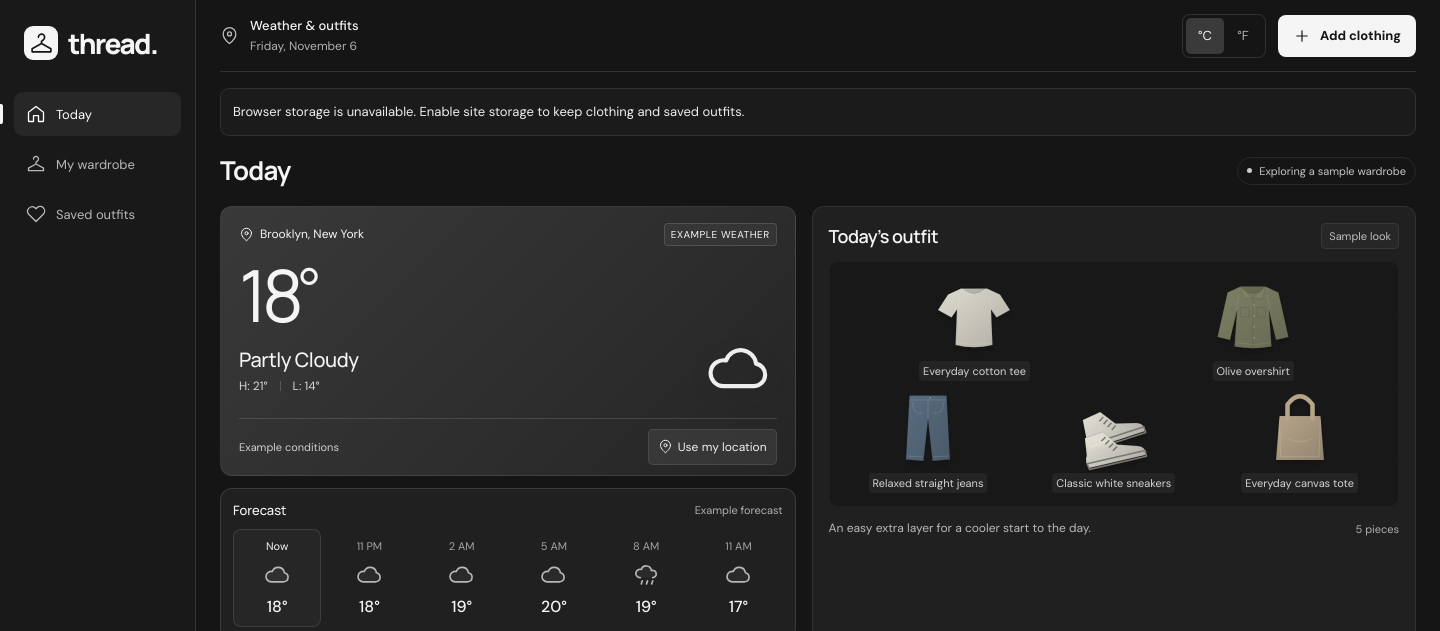
Test case: keeps the app usable when storage and location are unavailable
The image size is (1440, 631).
Expected: the text "Browser storage is unavailable" is shown, 233,103 -> 744,120
Click the button "Use my location" at [712, 447], box 648,429 -> 777,465
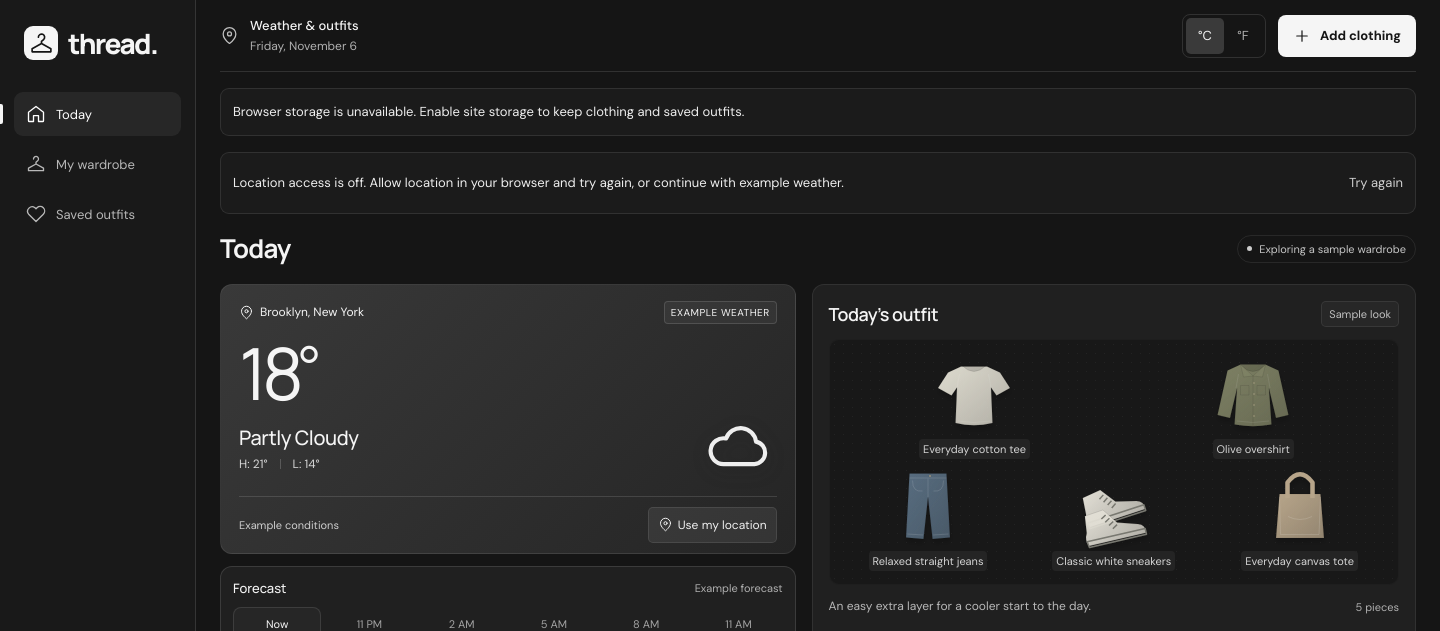
Expected: the heading "Today" is shown, 220,232 -> 290,266
Expected: the text "Location access is off" is shown, 233,174 -> 844,191
